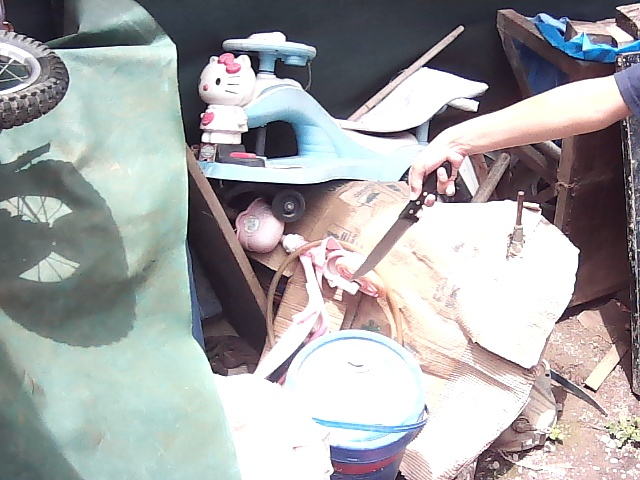cuchillo: (347, 176, 435, 287)
